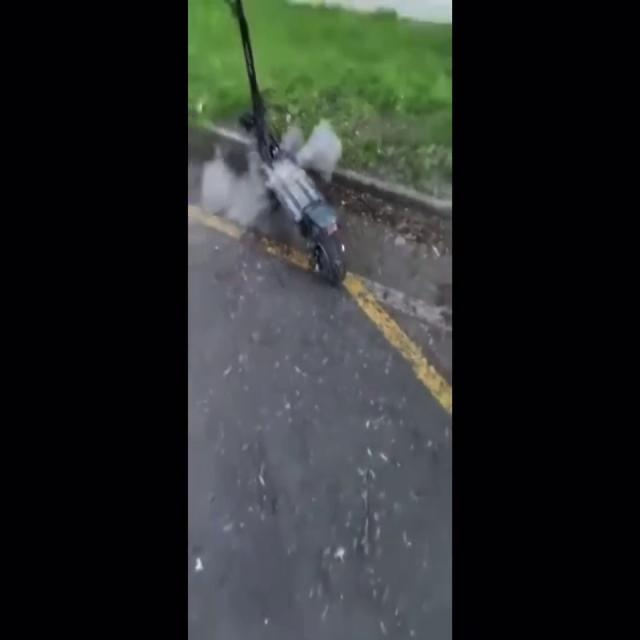Smoke: (194, 92, 350, 255)
